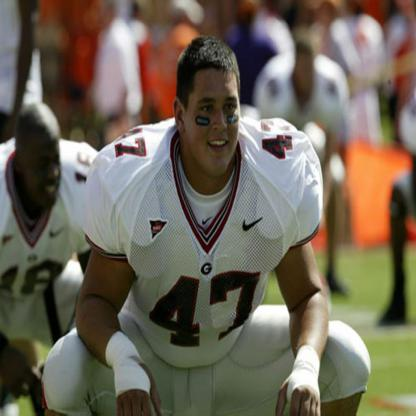face: (196, 71, 239, 174), (24, 128, 62, 202)
